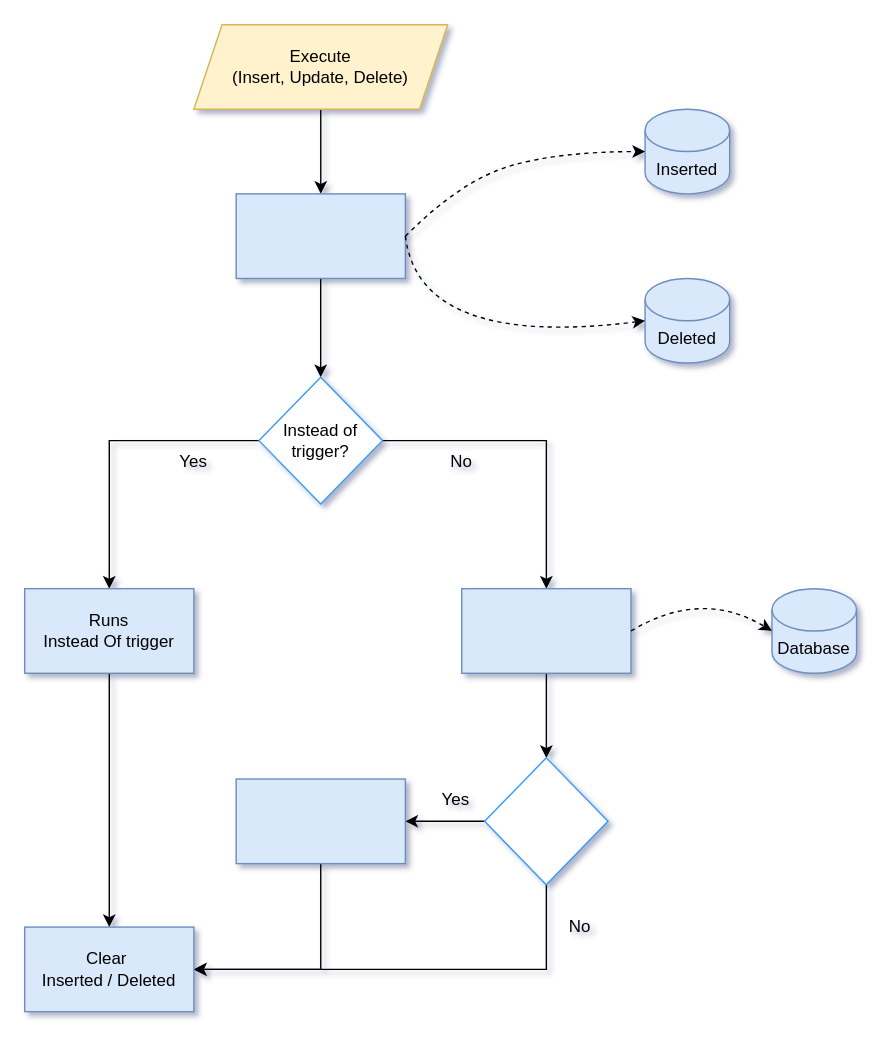
The diagram is 890 pixels wide and 1045 high, and some of its shapes have lost their labels. Each missing label, with the centre of its shape:
After trigger?: the point at 545,820
Copy data into Inserted / Deleted: the point at 320,235
Runs After trigger: the point at 320,821
Update data: the point at 545,630
